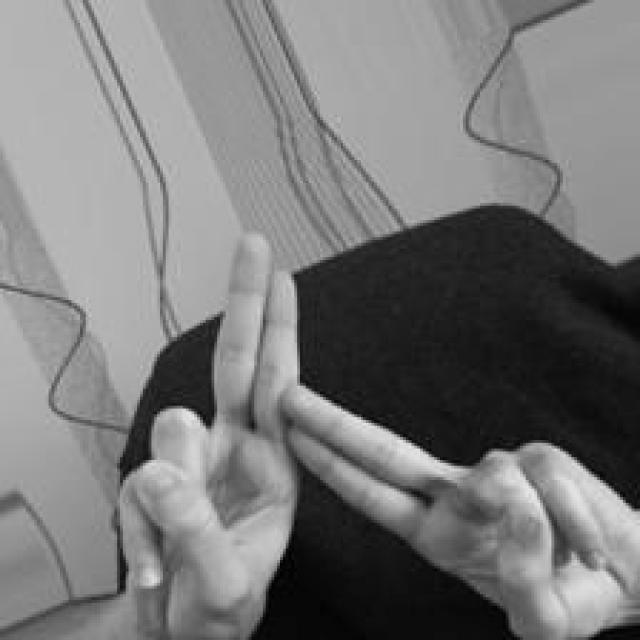K: (114, 226, 640, 637)
